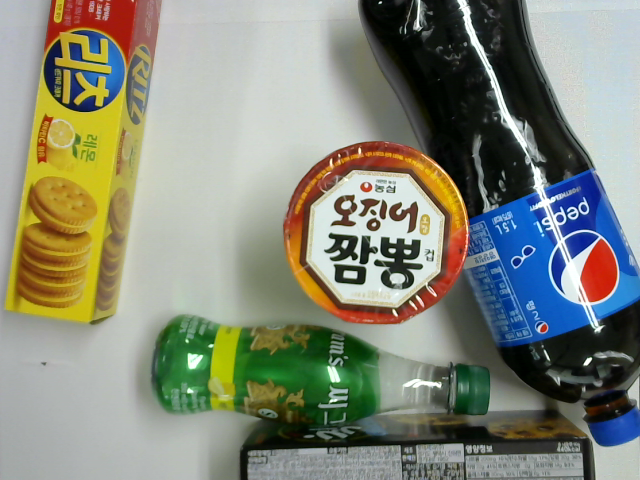Chicchok_Original_2400: (242, 405, 596, 480)
Ojjam: (287, 141, 475, 329)
Pepsi_Cola_1.5L: (359, 1, 640, 452)
Ritz_Remon_96g: (1, 1, 163, 326)
Seagram_Lemon_Carbonated_Water: (148, 311, 495, 434)
